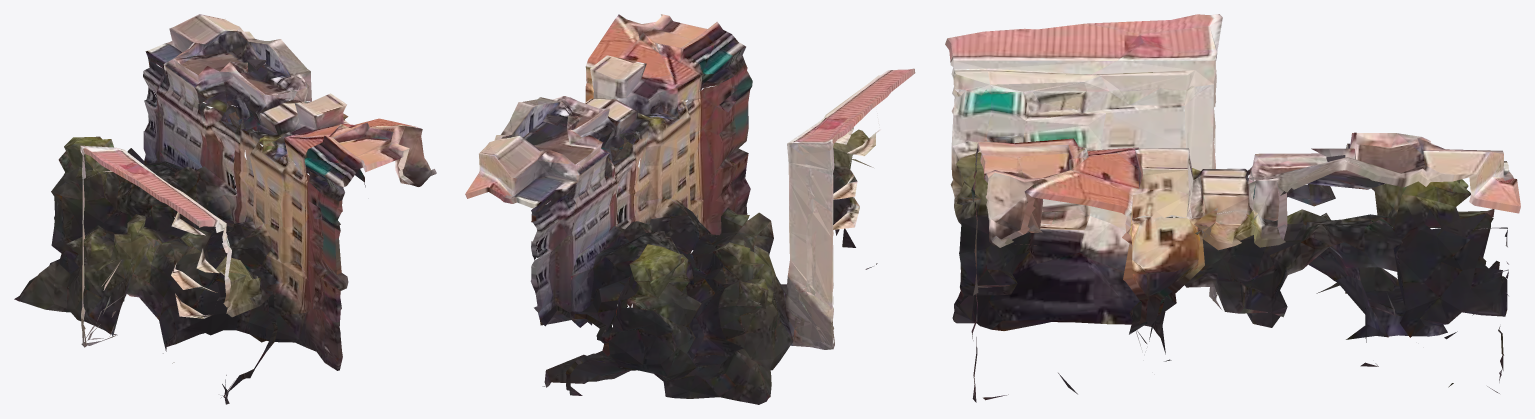
3 renders of one model, left to right at view 1: azimuth 30°, elevation 25°; view 2: azimuth 150°, elevation 25°; view 3: azimuth 270°, elevation 25°, orthographic. The views are drawn at different scales.
Parts seen in each view (by area): view 1: Mesh_0; view 2: Mesh_0; view 3: Mesh_0.
Part boxes in pixels (x1,y1,x2,y2): Mesh_0: [14, 14, 436, 404]; Mesh_0: [465, 14, 915, 404]; Mesh_0: [945, 14, 1520, 402].
Bounding box in the file's own units: 31.54 × 23.25 × 41.6.
Materials: 1 (1 with a texture image).
